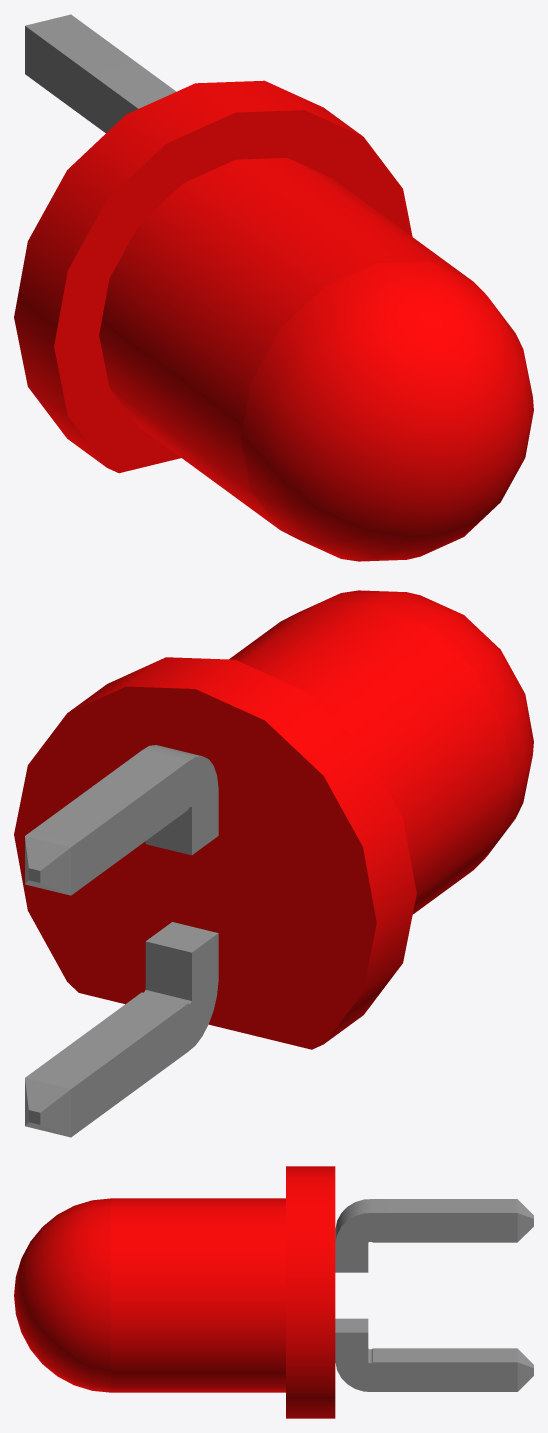
The model's file is led_3mm_red.obj.
3 views of the same model, one above another, from view 1: azimuth 30°, elevation 25°; view 2: azimuth 150°, elevation 25°; view 3: azimuth 270°, elevation 25° (orthographic). The views are drawn at different scales.
Visible parts, largest first — view 1: cube6_body, cube6_pins; view 2: cube6_body, cube6_pins; view 3: cube6_body, cube6_pins.
Boxes of the visible parts, x1,y1,x2,y2 form: cube6_body: (14,80,533,561); cube6_pins: (25,14,176,132); cube6_body: (14,590,533,1049); cube6_pins: (25,745,218,1137); cube6_body: (14,1166,335,1418); cube6_pins: (335,1199,533,1391).
Size of the model in its own units: 1.57 by 1.39 by 3.15.
